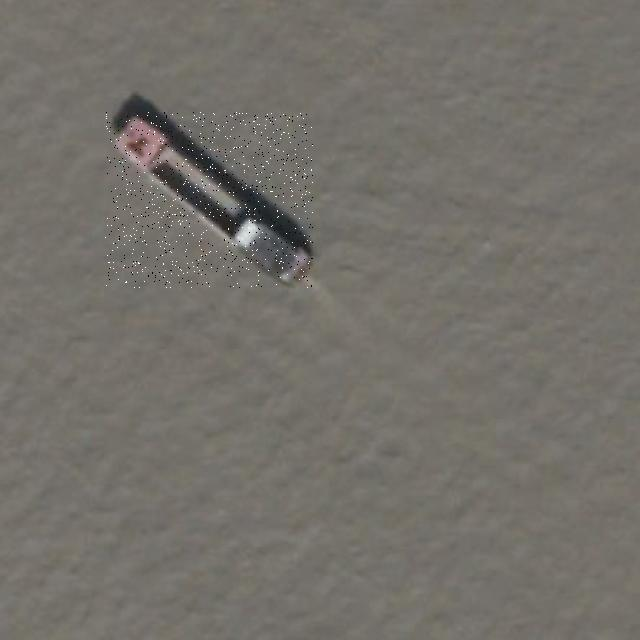boat: (105, 112, 313, 288)
